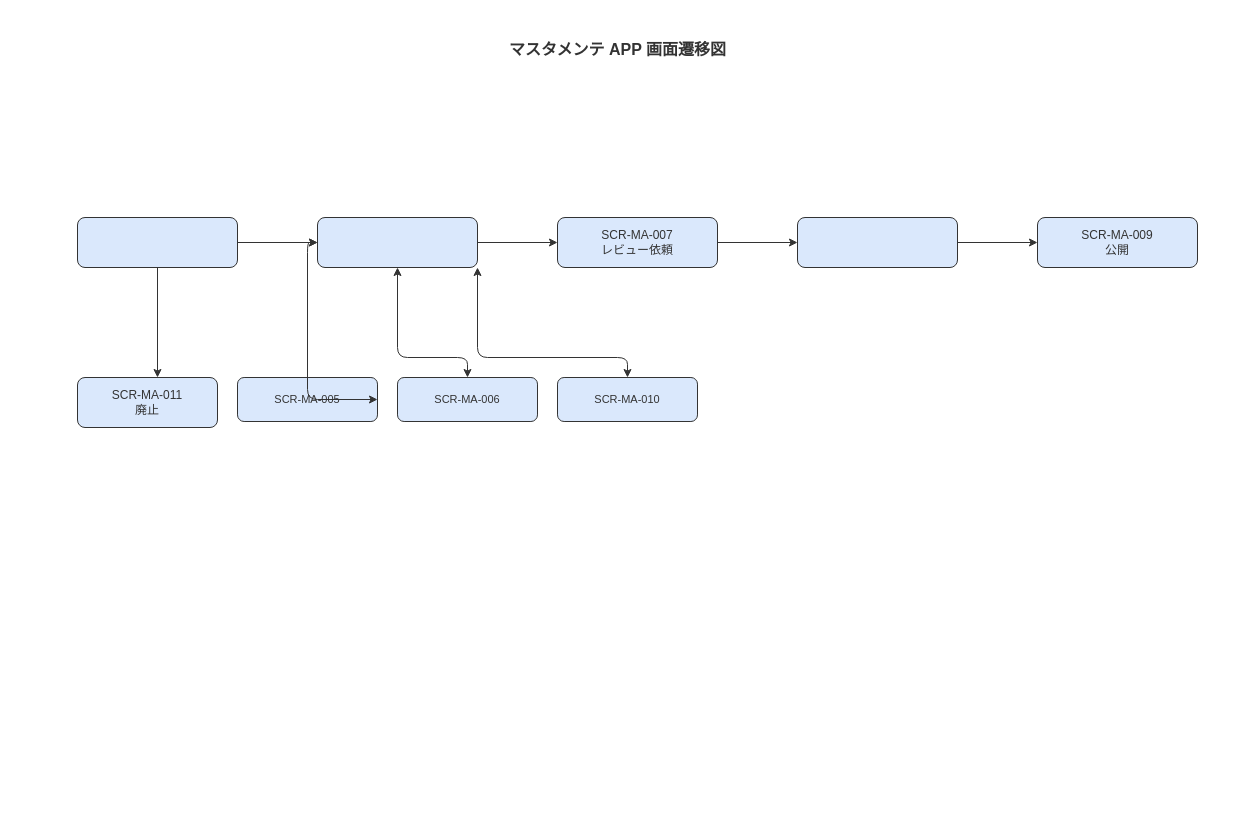
The diagram is 1234 pixels wide and 834 high, and some of its shapes have lost their labels. Here are the shapes that lost their labels. From the top down, the box of each, then its label:
(76, 216, 238, 268): SCR-MA-001 プロセス一覧
(316, 216, 478, 268): SCR-MA-004 SOP編集
(796, 216, 958, 268): SCR-MA-008 承認
